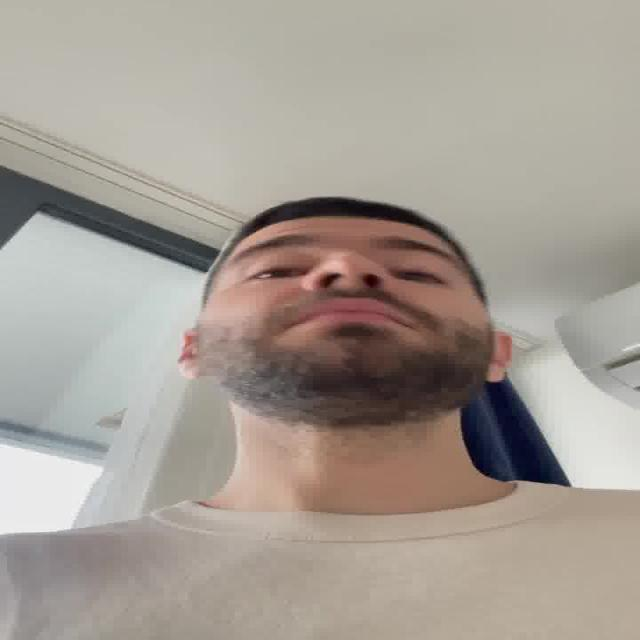earlobe: (176, 327, 209, 381), (481, 331, 514, 383)
